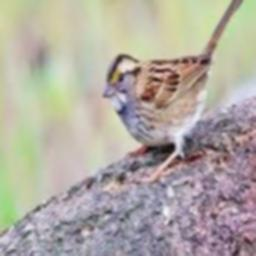Sparrow: (104, 0, 251, 183)
